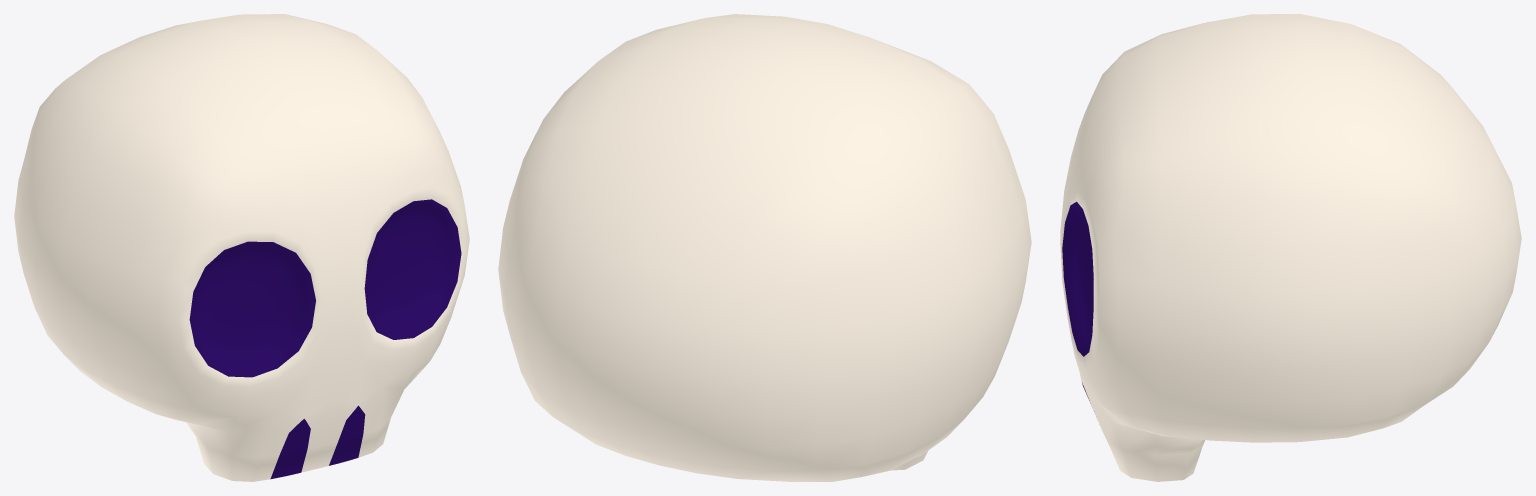
File: Prop_Skull.glb
3 views of the same model, side by side, from view 1: azimuth 30°, elevation 25°; view 2: azimuth 150°, elevation 25°; view 3: azimuth 270°, elevation 25° (orthographic). The views are drawn at different scales.
Parts seen in each view (by area): view 1: Skull; view 2: Skull; view 3: Skull.
Part boxes in pixels (x1,y1,x2,y2): Skull: (14, 14, 469, 481); Skull: (498, 14, 1031, 481); Skull: (1060, 14, 1521, 481).
Size of the model in its own units: 1.44 by 1.36 by 1.42.
1 material, 1 textured.
